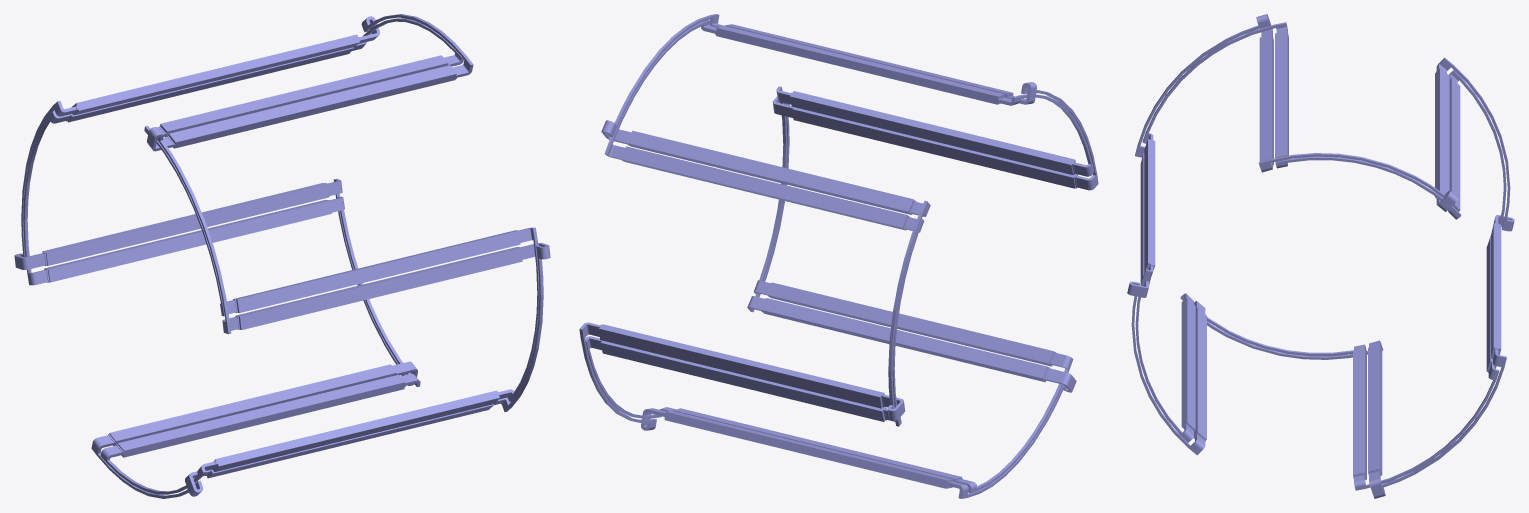
File: PhaseA2.glb
3 renders of one model, left to right at view 1: azimuth 30°, elevation 25°; view 2: azimuth 150°, elevation 25°; view 3: azimuth 270°, elevation 25°, orthographic. The views are drawn at different scales.
Parts seen in each view (by area): view 1: Phase A2; view 2: Phase A2; view 3: Phase A2.
Boxes of the visible parts, x1,y1,x2,y2 form: Phase A2: (14,14,550,498); Phase A2: (579,14,1098,498); Phase A2: (1127,14,1514,498).
Bounding box in the file's own units: 0.5328 × 0.5935 × 0.6059.
